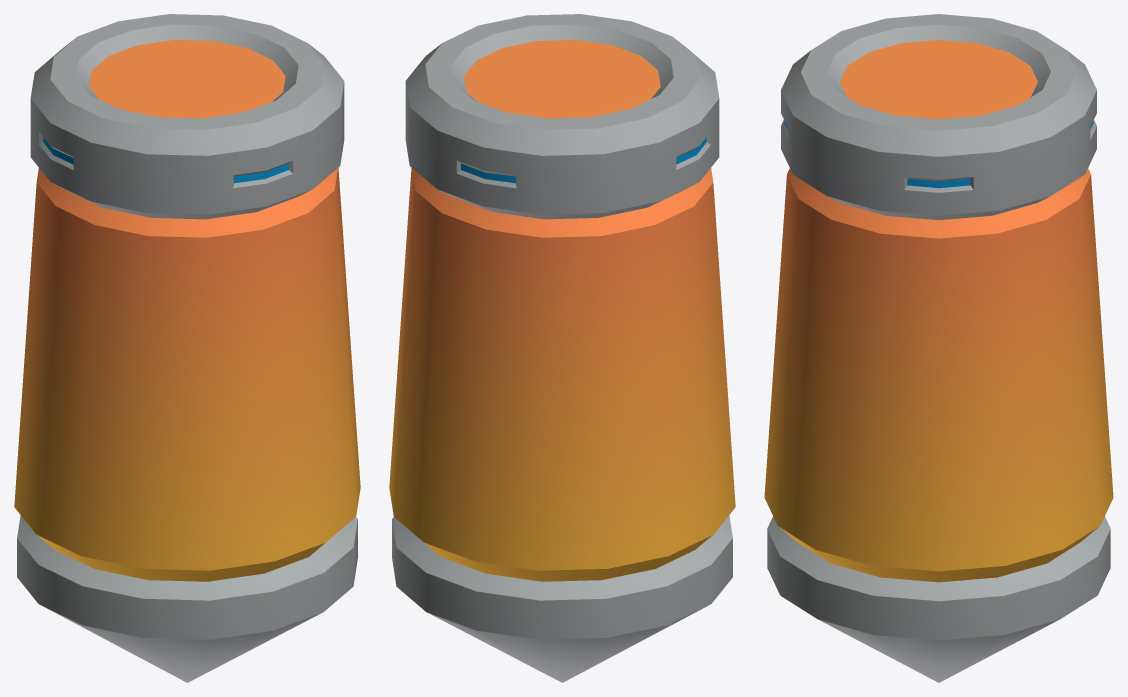
3 renders of one model, left to right at view 1: azimuth 30°, elevation 25°; view 2: azimuth 150°, elevation 25°; view 3: azimuth 270°, elevation 25°, orthographic.
Parts seen in each view (by area): view 1: Сapsule_011; view 2: Сapsule_011; view 3: Сapsule_011.
Boxes of the visible parts, x1,y1,x2,y2 form: Сapsule_011: (14,14,360,682); Сapsule_011: (389,14,735,682); Сapsule_011: (764,14,1113,682).
Size of the model in its own units: 99.62 by 99.62 by 192.
